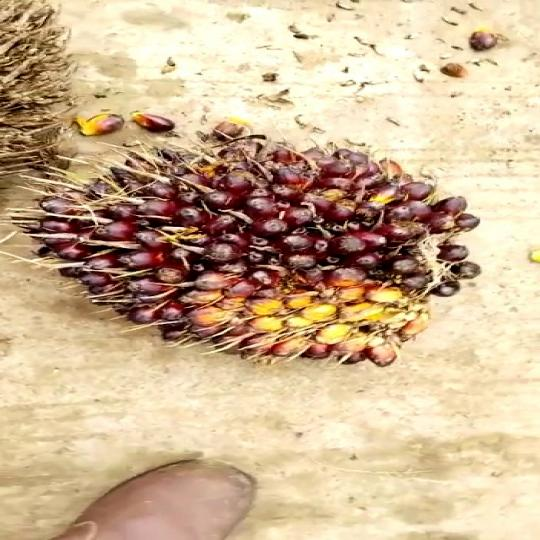kurang masak: (9, 144, 498, 377)
